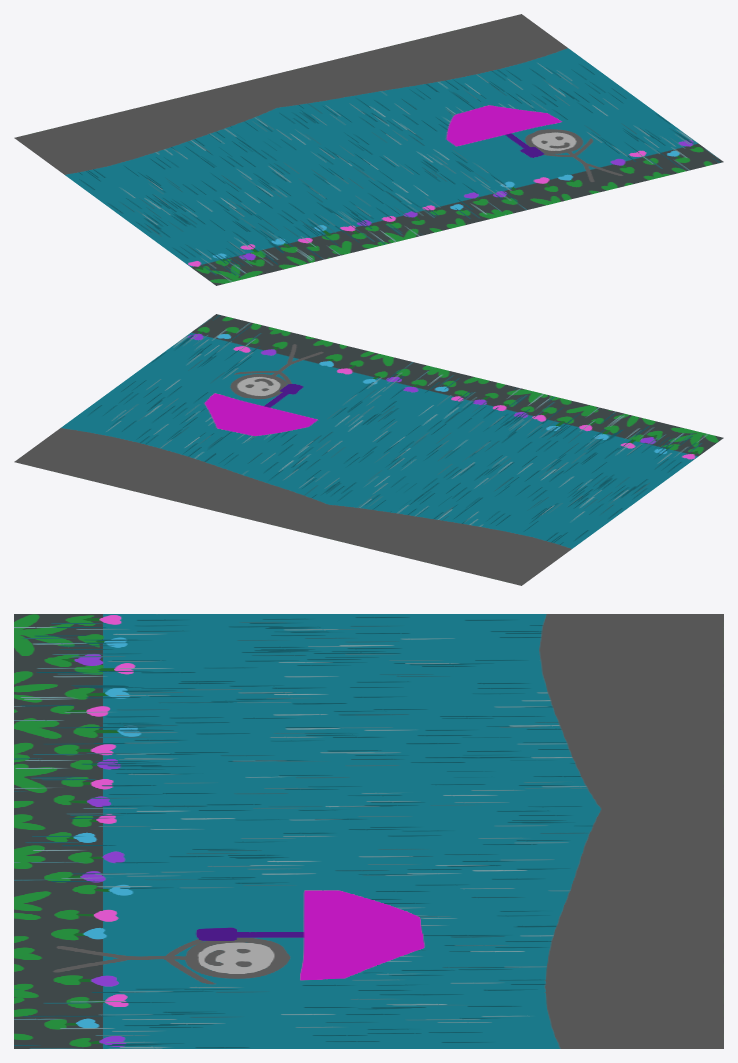
File: SpringAnim10.fbx
3 renders of one model, top to bottom at view 1: azimuth 30°, elevation 25°; view 2: azimuth 150°, elevation 25°; view 3: azimuth 270°, elevation 25°, orthographic. The views are drawn at different scales.
Visible parts, largest first — view 1: pPlane1; view 2: pPlane1; view 3: pPlane1.
Boxes of the visible parts, x1,y1,x2,y2 form: pPlane1: (14, 14, 723, 285); pPlane1: (14, 314, 723, 585); pPlane1: (14, 614, 723, 1048).
Bounding box in the file's own units: 7.78 × 5.08e-16 × 5.37.
Materials: 1 (1 with a texture image).
